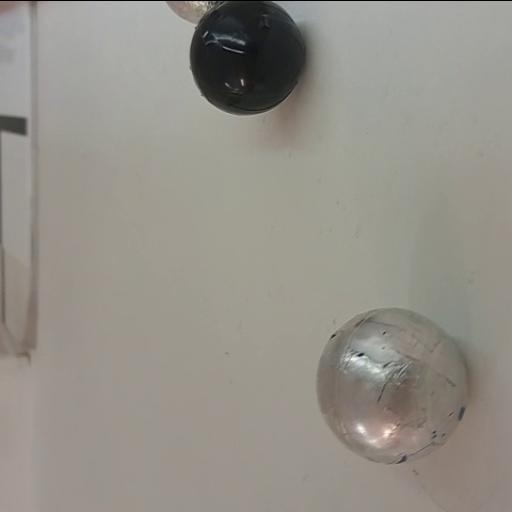alive: (315, 312, 470, 466), (168, 0, 228, 25)
dead: (190, 2, 304, 116)
